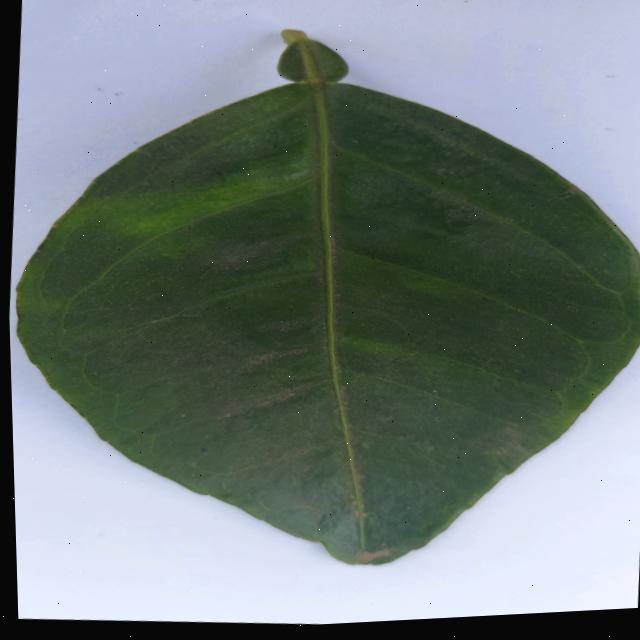greening: (19, 30, 640, 564)
